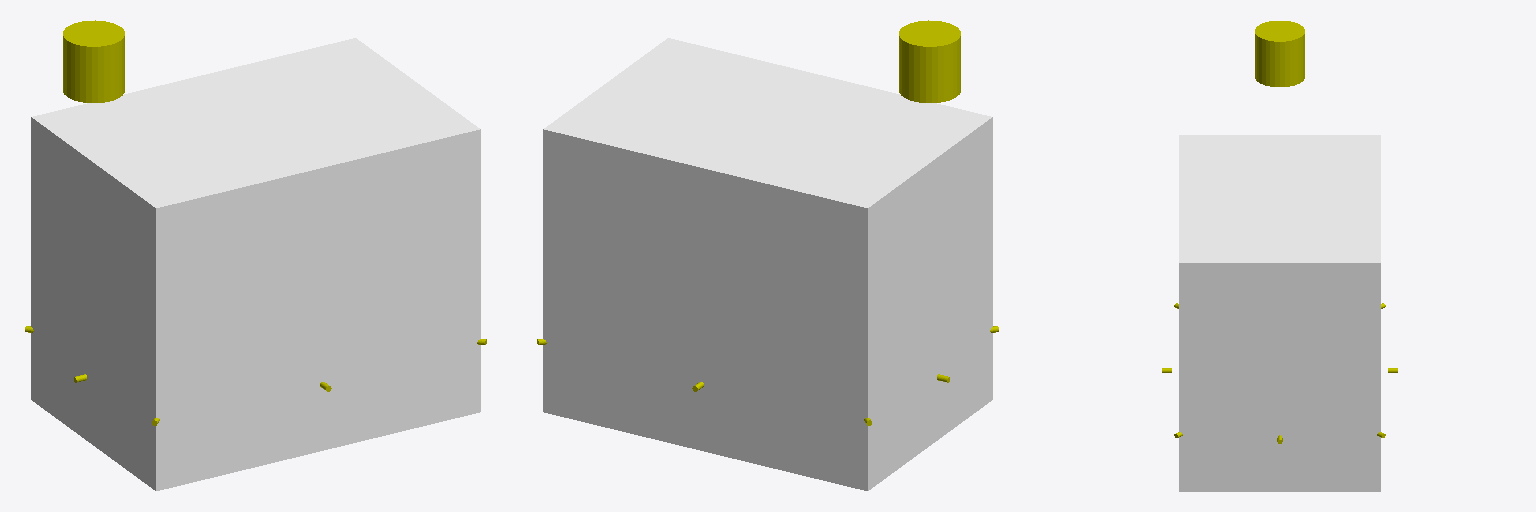
URDF robot description (robot):
<?xml version="1.0"?>
<robot name="robot">
  <material name="yellow">
    <color rgba="0.8 0.8 0 1"/>
  </material>
  <material name="white">
    <color rgba="1 1 1 1"/>
  </material>

  <link name="base_link">
      <visual>
          <geometry>
            <box size="0.6 0.4 0.5"/>
          </geometry>
          <material name="white"/>
          <origin xyz="0 0 0.5" rpy="0 0 0"/>
        </visual>
  </link>
<!-- -->
  <link name="ultrasonic_f0">
      <visual>
        <geometry>
          <cylinder length="0.02" radius="0.005"/>
        </geometry>
        <material name="yellow"/>
        <origin xyz="0 0 0" rpy="0 1.571 0"/>
      </visual>
  </link>
  <joint name="base_to_ultrasonic_f0" type="fixed">
      <parent link="base_link"/>
      <child link="ultrasonic_f0"/>
      <origin xyz="0.3245 0 0.3745" rpy="0 0 0"/>
  </joint>

  <link name="ultrasonic_fl">
      <visual>
        <geometry>
          <cylinder length="0.02" radius="0.005"/>
        </geometry>
        <material name="yellow"/>
        <origin xyz="0 0 0" rpy="0 1.571 0"/>
      </visual>
  </link>
  <joint name="base_to_ultrasonic_fl" type="fixed">
      <parent link="base_link"/>
      <child link="ultrasonic_fl"/>
      <origin xyz="0.2994 0.1989 0.3745" rpy="0 0 0.7854"/>
  </joint>

  <link name="ultrasonic_fr">
      <visual>
        <geometry>
          <cylinder length="0.02" radius="0.005"/>
        </geometry>
        <material name="yellow"/>
        <origin xyz="0 0 0" rpy="0 1.571 0"/>
      </visual>
  </link>
  <joint name="base_to_ultrasonic_fr" type="fixed">
      <parent link="base_link"/>
      <child link="ultrasonic_fr"/>
      <origin xyz="0.2994 -0.1989 0.3745" rpy="0 0 -0.7854"/>
  </joint>

  <link name="ultrasonic_l">
      <visual>
        <geometry>
          <cylinder length="0.02" radius="0.005"/>
        </geometry>
        <material name="yellow"/>
        <origin xyz="0 0 0" rpy="1.571 0 1.571"/>
      </visual>
  </link>
  <joint name="base_to_ultrasonic_l" type="fixed">
      <parent link="base_link"/>
      <child link="ultrasonic_l"/>
      <origin xyz="0 0.2235 0.3745" rpy="0 0 1.571"/>
  </joint>

  <link name="ultrasonic_r">
      <visual>
        <geometry>
          <cylinder length="0.02" radius="0.005"/>
        </geometry>
        <material name="yellow"/>
        <origin xyz="0 0 0" rpy="1.571 0 1.571"/>
      </visual>
  </link>
  <joint name="base_to_ultrasonic_r" type="fixed">
      <parent link="base_link"/>
      <child link="ultrasonic_r"/>
      <origin xyz="0 -0.2235 0.3745" rpy="0 0 -1.571"/>
  </joint>

  <link name="ultrasonic_r0">
    <visual>
      <geometry>
        <cylinder length="0.02" radius="0.005"/>
      </geometry>
      <material name="yellow"/>
      <origin xyz="0 0 0" rpy="0 1.571 0"/>
    </visual>
  </link>
  <joint name="base_to_ultrasonic_r0" type="fixed">
      <parent link="base_link"/>
      <child link="ultrasonic_r0"/>
      <origin xyz="-0.3245 0 0.3745" rpy="0 0 3.14159"/>
  </joint>

  <link name="ultrasonic_rl">
      <visual>
        <geometry>
          <cylinder length="0.02" radius="0.005"/>
        </geometry>
        <material name="yellow"/>
        <origin xyz="0 0 0" rpy="0 1.571 0"/>
      </visual>
  </link>
  <joint name="base_to_ultrasonic_rl" type="fixed">
      <parent link="base_link"/>
      <child link="ultrasonic_rl"/>
      <origin xyz="-0.2994 0.1989 0.3745" rpy="0 0 2.356"/>
  </joint>

  <link name="ultrasonic_rr">
      <visual>
        <geometry>
          <cylinder length="0.02" radius="0.005"/>
        </geometry>
        <material name="yellow"/>
        <origin xyz="0 0 0" rpy="0 1.571 0"/>
      </visual>
  </link>
  <joint name="base_to_ultrasonic_rr" type="fixed">
      <parent link="base_link"/>
      <child link="ultrasonic_rr"/>
      <origin xyz="-0.2994 -0.1989 0.3745" rpy="0 0 -2.356"/>
  </joint>

  <link name="rslidar">
      <visual>
        <geometry>
          <cylinder length="0.1" radius="0.05"/>
        </geometry>
        <material name="yellow"/>
        <origin xyz="0 0 0" rpy="0 0 0"/>
      </visual>
  </link>
  <joint name="base_to_lidar" type="fixed">
      <parent link="base_link"/>
      <child link="rslidar"/>
      <origin xyz="-0.2994 0 0.9279" rpy="0 0 0"/>
  </joint>

</robot>

--- What the picture shows (computed from the rendered views, not written in the file) ---
Views: 3 orthographic renders of the robot side by side, from view 1: azimuth 30°, elevation 25°; view 2: azimuth 150°, elevation 25°; view 3: azimuth 270°, elevation 25°.
Robot: robot — 10 links, 9 joints (9 fixed); root link base_link; default pose: all joints at 0.
Links seen in each view (by area): view 1: base_link, rslidar; view 2: base_link, rslidar; view 3: base_link, rslidar.
Boxes of the visible links, x1,y1,x2,y2 form: base_link: [31, 38, 480, 490]; rslidar: [63, 20, 124, 102]; base_link: [543, 38, 992, 490]; rslidar: [899, 20, 960, 102]; base_link: [1179, 135, 1380, 491]; rslidar: [1255, 21, 1304, 86].
Size in the robot's own frame: 0.6839 by 0.467 by 0.7279 metres.
Geometry: primitives only (box / cylinder / sphere), no mesh files.